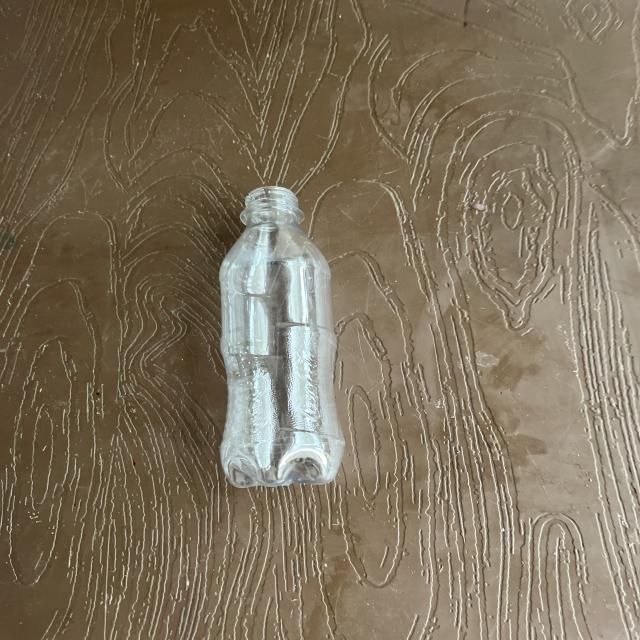PET_ClearBottle: (195, 178, 416, 482)
